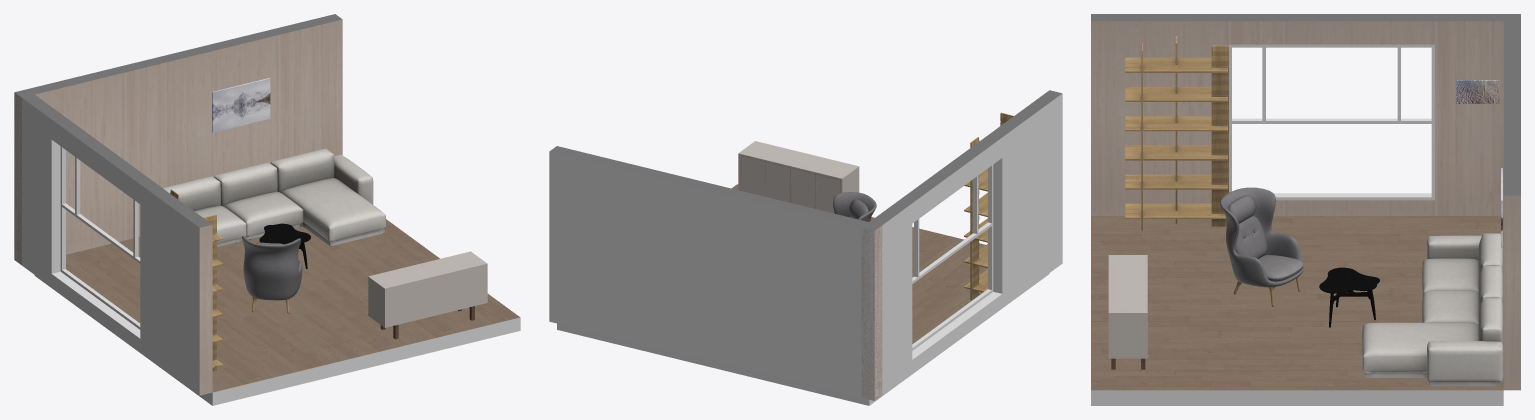
The model's file is room.glb.
3 renders of one model, left to right at view 1: azimuth 30°, elevation 25°; view 2: azimuth 150°, elevation 25°; view 3: azimuth 270°, elevation 25°, orthographic. The views are drawn at different scales.
Size of what is drawn, in the model's own units: 5 by 2.7 by 5.
19 materials, 10 textured.
